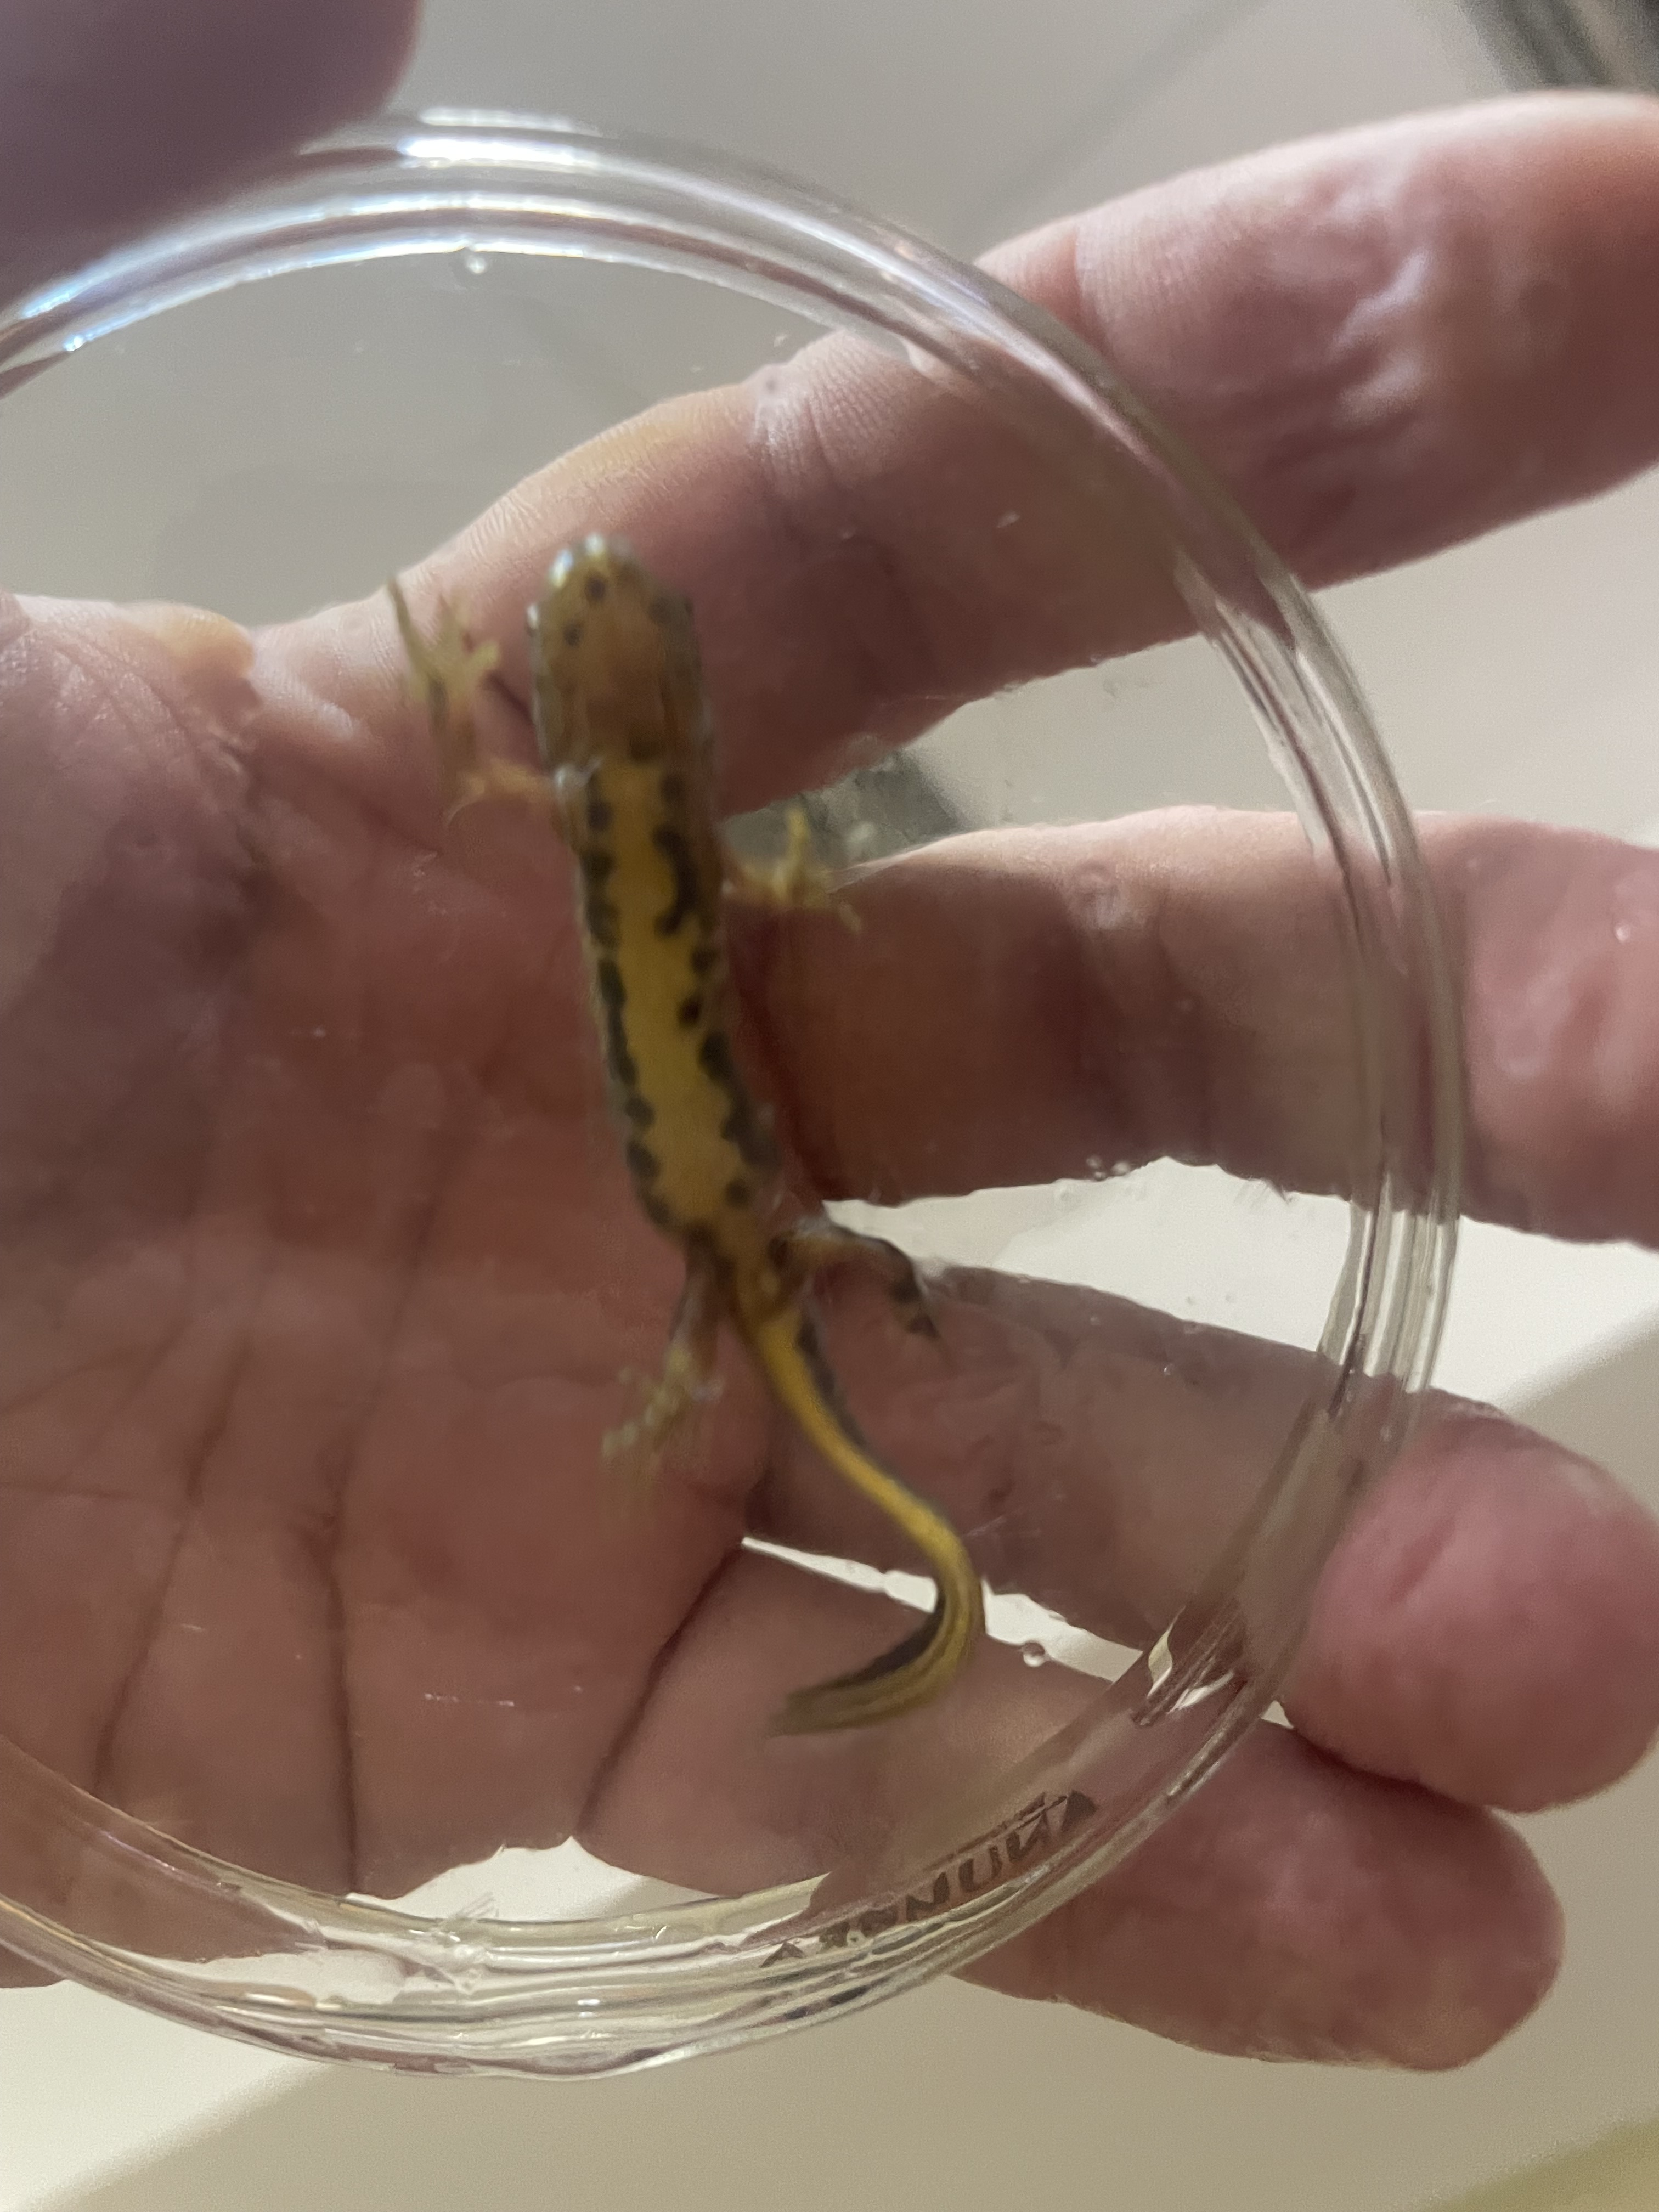Karelin_newt: (570, 843, 817, 1252)
